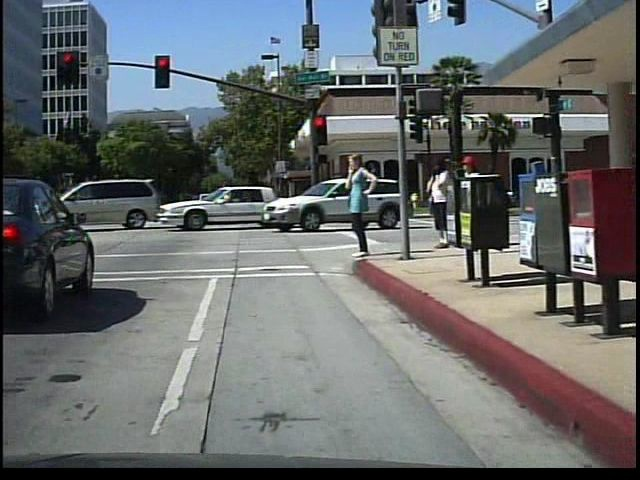person: (341, 148, 378, 262), (450, 146, 486, 250), (425, 149, 457, 250)
